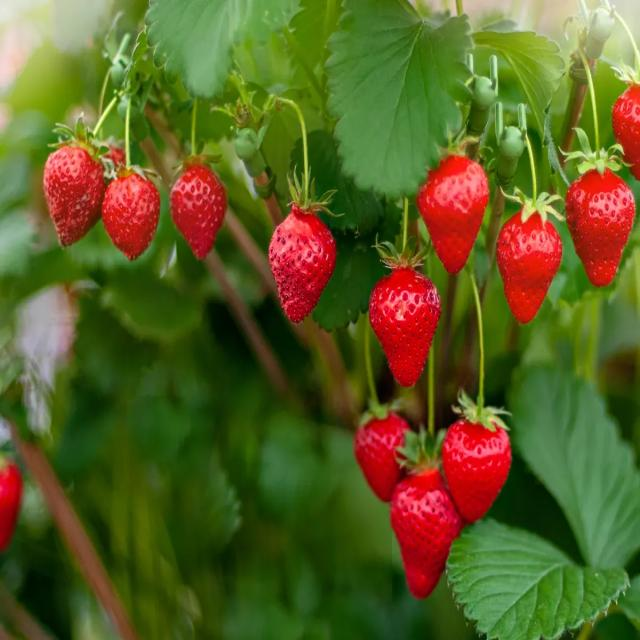strawberry: (258, 154, 342, 326)
